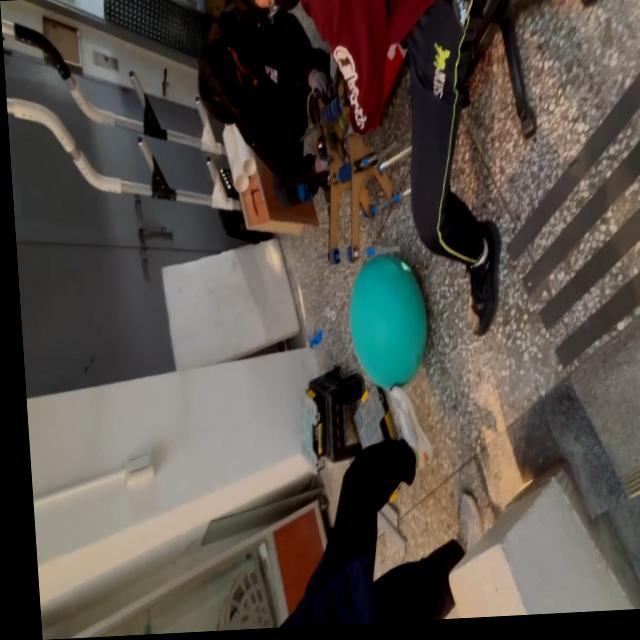ALGAE: (344, 250, 433, 394)
